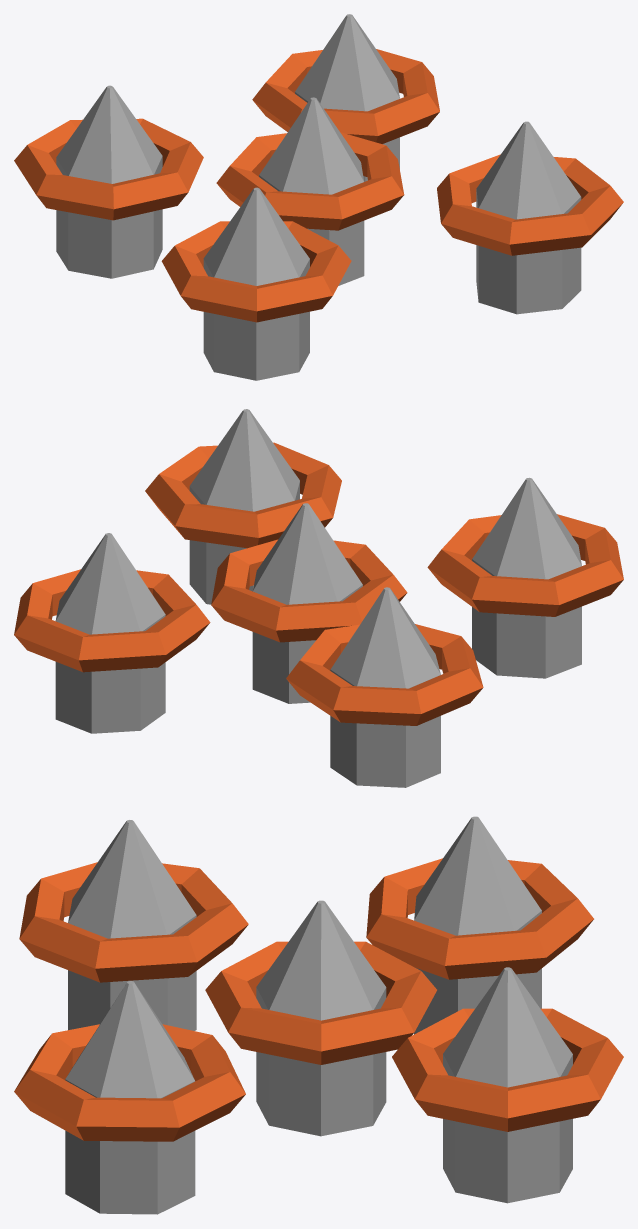
File: sharp.fbx
The picture shows the model from 3 angles, top to bottom: view 1: azimuth 30°, elevation 25°; view 2: azimuth 150°, elevation 25°; view 3: azimuth 270°, elevation 25°; orthographic projection. The views are drawn at different scales.
Parts seen in each view (by area): view 1: Trap(sharp), Trap; view 2: Trap(sharp), Trap; view 3: Trap(sharp), Trap.
Boxes of the visible parts, x1=… form: Trap(sharp): x1=56, y1=14, x2=581, y2=380; Trap: x1=14, y1=49, x2=623, y2=322; Trap(sharp): x1=55, y1=409, x2=581, y2=787; Trap: x1=14, y1=442, x2=623, y2=725; Trap(sharp): x1=65, y1=816, x2=572, y2=1214; Trap: x1=14, y1=858, x2=623, y2=1141.
Size of the model in its own units: 20 by 7.4 by 19.85.
